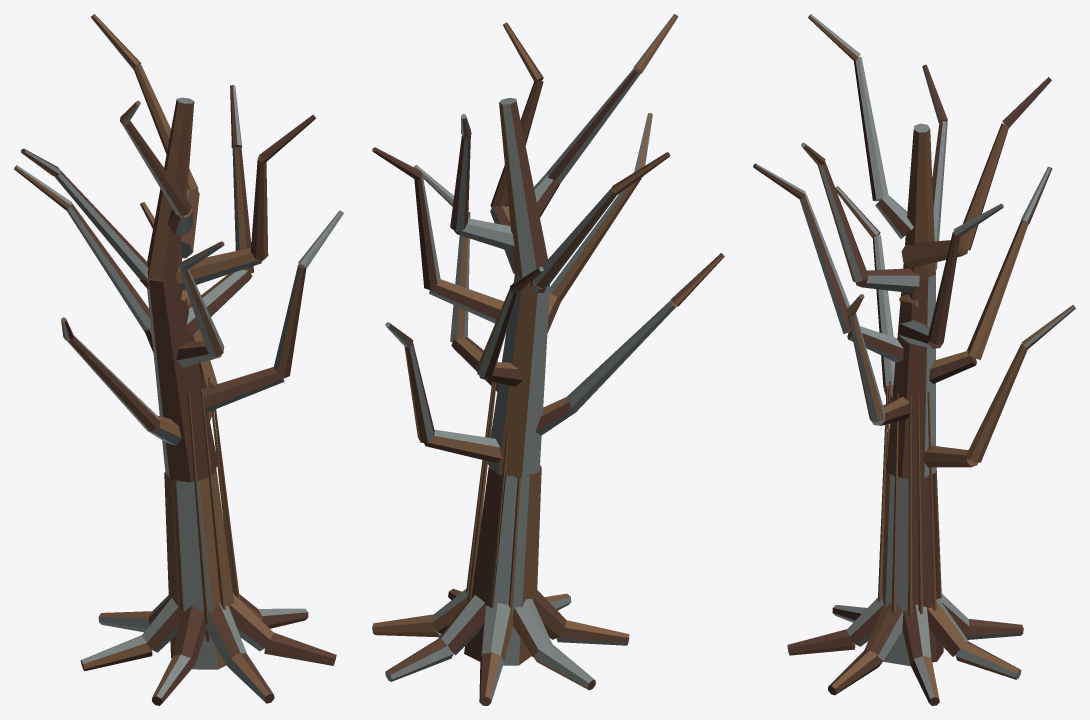
File: dead_tree_b.glb
The picture shows the model from 3 angles, left to right: view 1: azimuth 30°, elevation 25°; view 2: azimuth 150°, elevation 25°; view 3: azimuth 270°, elevation 25°; orthographic projection. The views are drawn at different scales.
Parts seen in each view (by area): view 1: dead_tree_b; view 2: dead_tree_b; view 3: dead_tree_b.
Part boxes in pixels (x1,y1,x2,y2): dead_tree_b: (14,14,343,705); dead_tree_b: (372,14,724,705); dead_tree_b: (753,14,1075,705).
Bounding box in the file's own units: 2.25 × 4.52 × 2.26.
